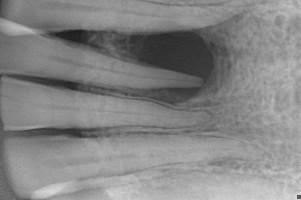Furcation Involvement: (129, 29, 217, 105)
